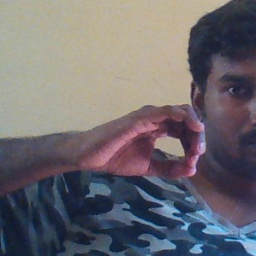O: (90, 98, 211, 191)
